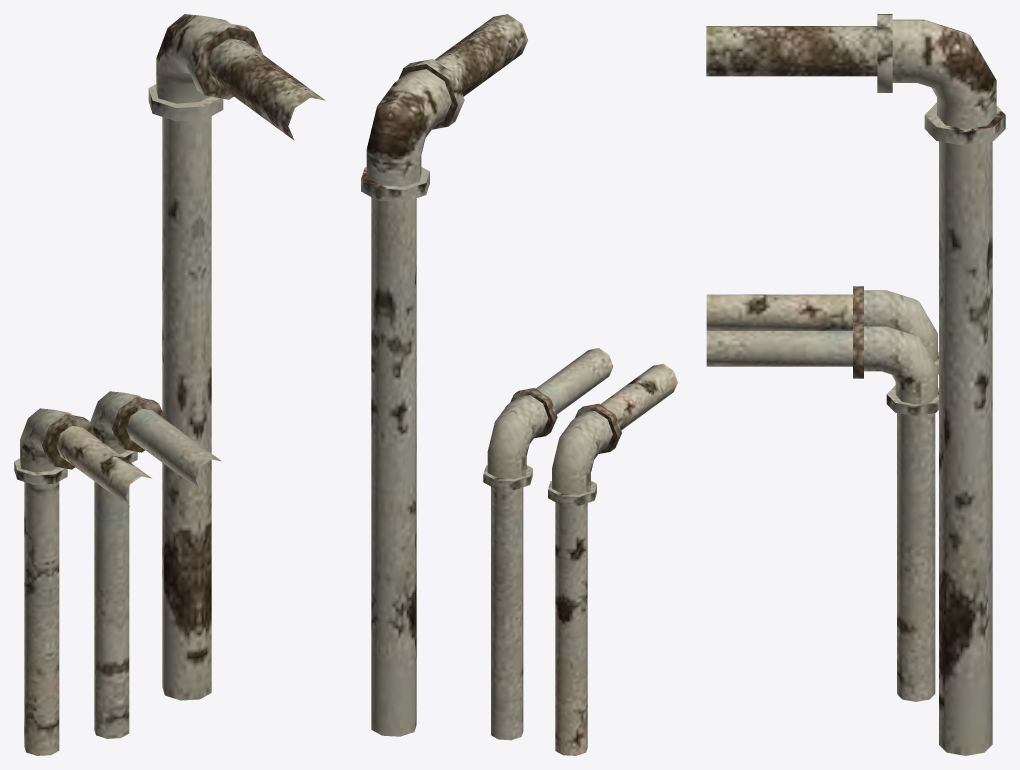
Rendered from pipecluster003a_small.glb.
3 views of the same model, side by side, from view 1: azimuth 30°, elevation 25°; view 2: azimuth 150°, elevation 25°; view 3: azimuth 270°, elevation 25° (orthographic). The views are drawn at different scales.
Parts seen in each view (by area): view 1: 0_prison_objects004; view 2: 0_prison_objects004; view 3: 0_prison_objects004.
Part boxes in pixels (x1,y1,x2,y2): 0_prison_objects004: [14, 14, 325, 755]; 0_prison_objects004: [361, 14, 677, 755]; 0_prison_objects004: [706, 14, 1005, 755].
Bounding box in the file's own units: 0.516 × 1.5 × 0.5578.
1 material, 1 textured.
